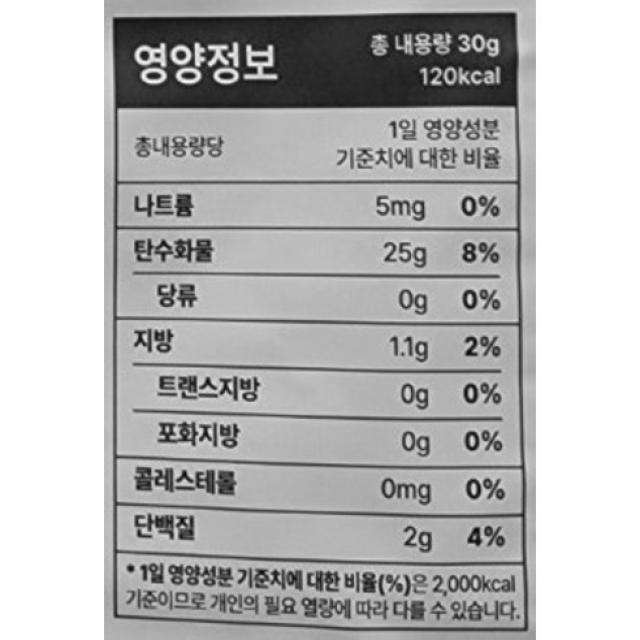Nutrition Label: (102, 4, 541, 639)
